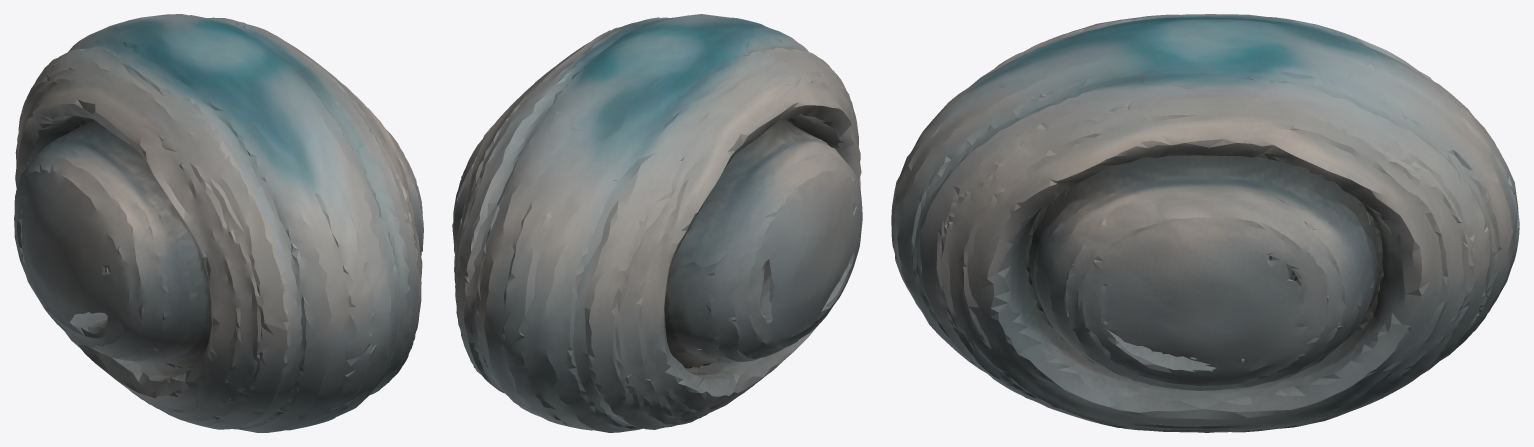
The model's file is tornado_vortex.glb.
3 renders of one model, left to right at view 1: azimuth 30°, elevation 25°; view 2: azimuth 150°, elevation 25°; view 3: azimuth 270°, elevation 25°, orthographic. The views are drawn at different scales.
Parts seen in each view (by area): view 1: tornado_vortex; view 2: tornado_vortex; view 3: tornado_vortex.
Boxes of the visible parts, bbox=[...] form: tornado_vortex: bbox=[14, 14, 423, 432]; tornado_vortex: bbox=[452, 14, 862, 432]; tornado_vortex: bbox=[891, 14, 1519, 432].
Size of the model in its own units: 1.25 by 1.25 by 1.89.
Materials: 1 (1 with a texture image).
